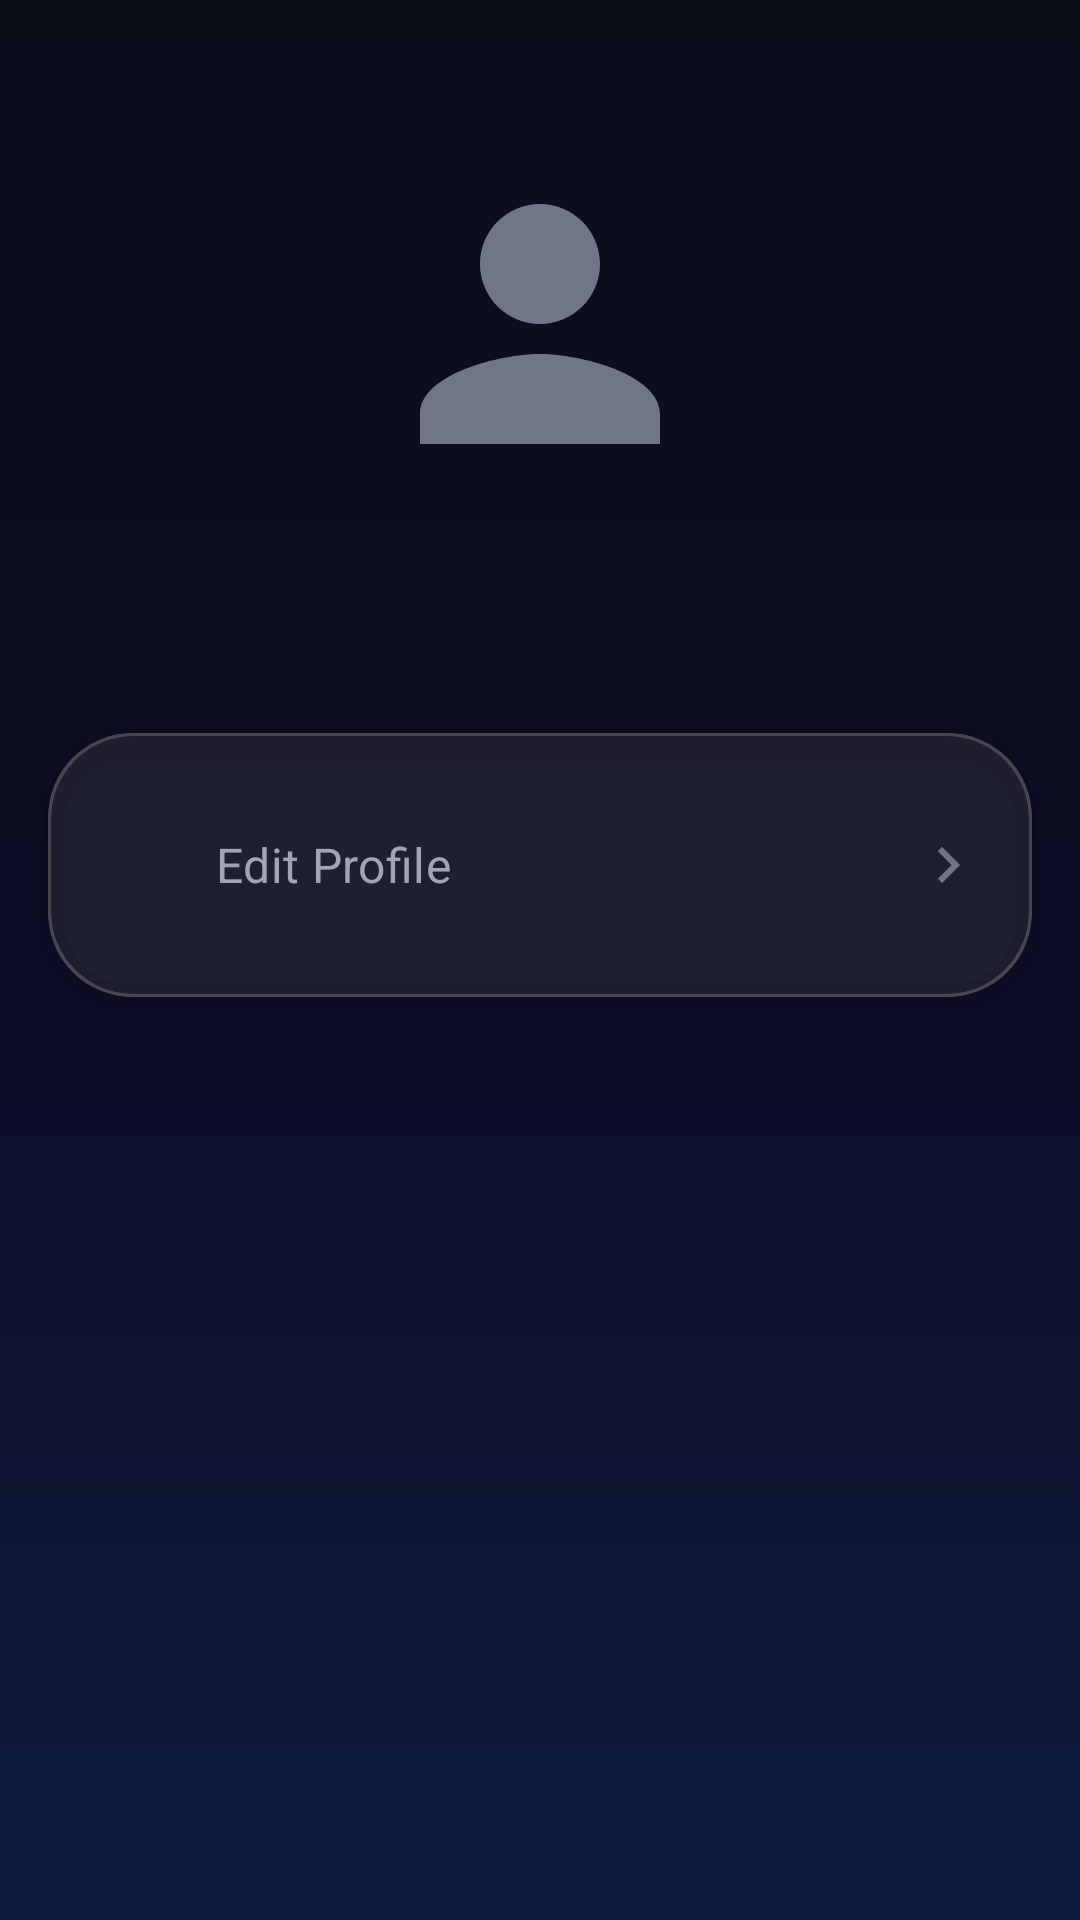

Icons on this 1080px x 1920px Android screen, each with the point to tap as (x,y):
arrow right: (949,865)
